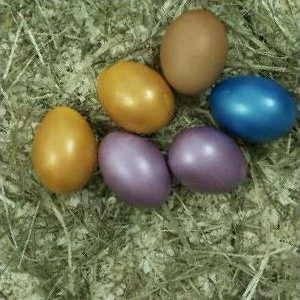egg: (160, 9, 230, 98), (211, 75, 298, 144), (32, 106, 98, 193), (98, 131, 171, 209), (98, 62, 176, 135), (169, 127, 250, 195)
